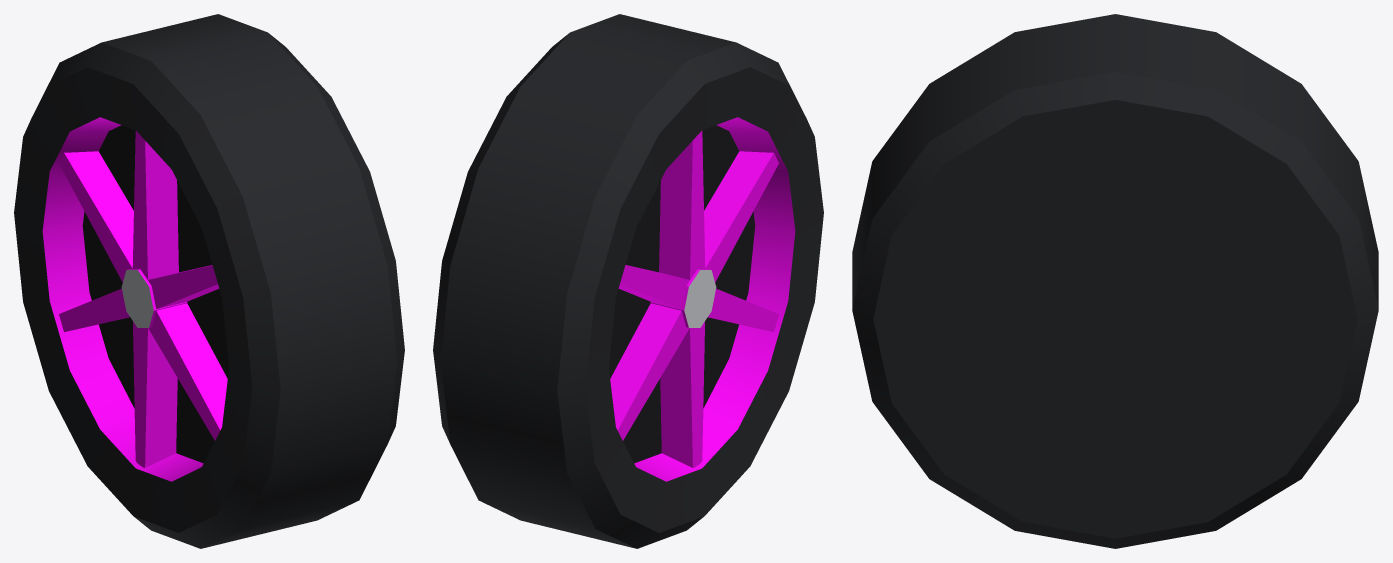
File: rim_deep.glb
3 views of the same model, side by side, from view 1: azimuth 30°, elevation 25°; view 2: azimuth 150°, elevation 25°; view 3: azimuth 270°, elevation 25° (orthographic).
Visible parts, largest first — view 1: rim_deep__mesh; view 2: rim_deep__mesh; view 3: rim_deep__mesh.
Boxes of the visible parts, x1=… form: rim_deep__mesh: x1=14, y1=14, x2=404, y2=548; rim_deep__mesh: x1=433, y1=14, x2=823, y2=548; rim_deep__mesh: x1=852, y1=14, x2=1378, y2=548.
Size of the model in its own units: 0.34 by 1 by 1.
Materials: 1 (1 with a texture image).
